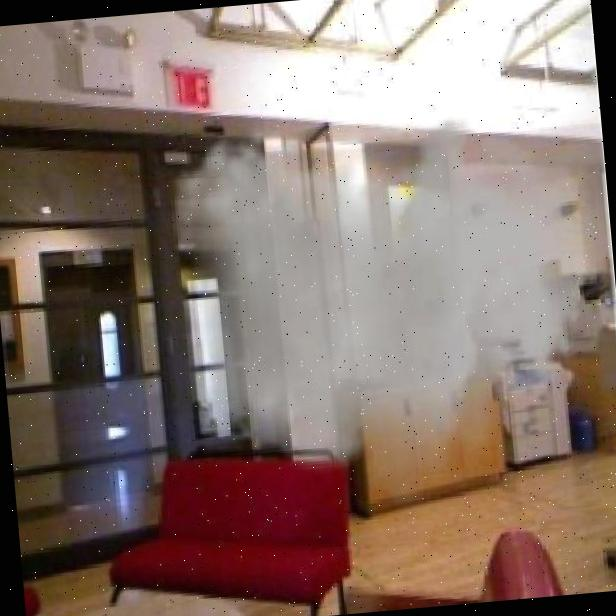smoke: (123, 73, 604, 497)
